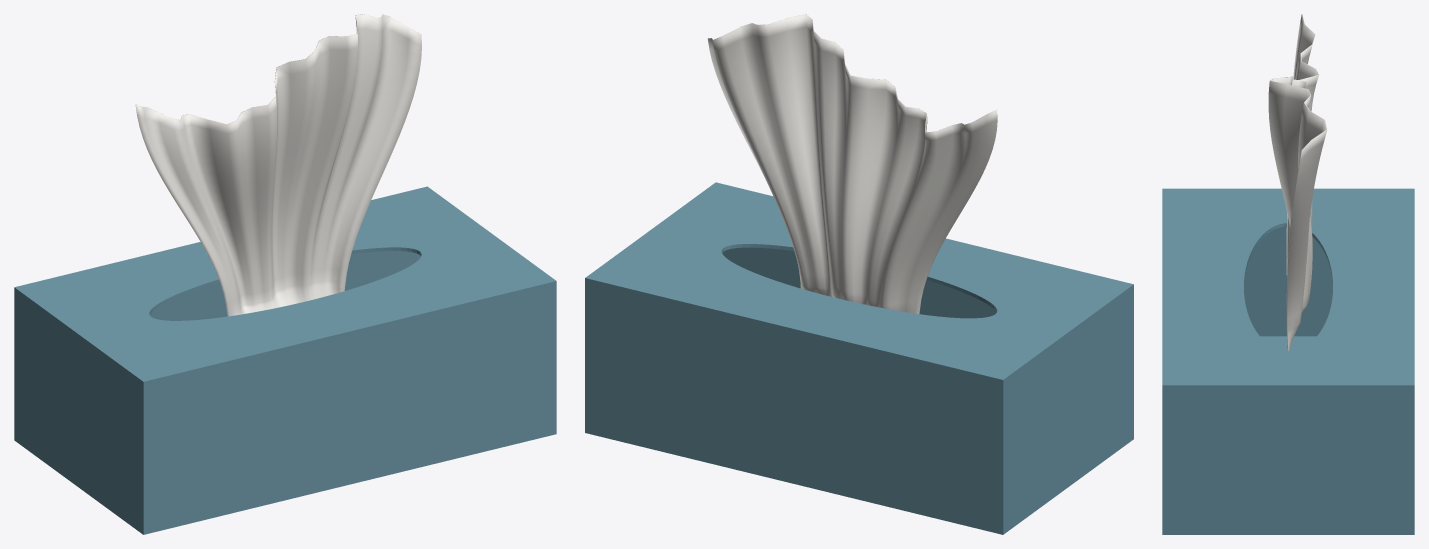
Rendered from A-NEW-20261027-TISSUE-BOX-001_LOD0_R2.glb.
The picture shows the model from 3 angles, left to right: view 1: azimuth 30°, elevation 25°; view 2: azimuth 150°, elevation 25°; view 3: azimuth 270°, elevation 25°; orthographic projection. The views are drawn at different scales.
Visible parts, largest first — view 1: plain hollow tissue carton, one thin folded emerging tissue; view 2: plain hollow tissue carton, one thin folded emerging tissue; view 3: plain hollow tissue carton, one thin folded emerging tissue.
Boxes of the visible parts, x1,y1,x2,y2 form: plain hollow tissue carton: [14, 186, 556, 534]; one thin folded emerging tissue: [135, 14, 421, 316]; plain hollow tissue carton: [585, 182, 1133, 534]; one thin folded emerging tissue: [708, 14, 997, 313]; plain hollow tissue carton: [1162, 188, 1414, 534]; one thin folded emerging tissue: [1268, 14, 1327, 350].
Bounding box in the file's own units: 0.24 × 0.2195 × 0.13.
